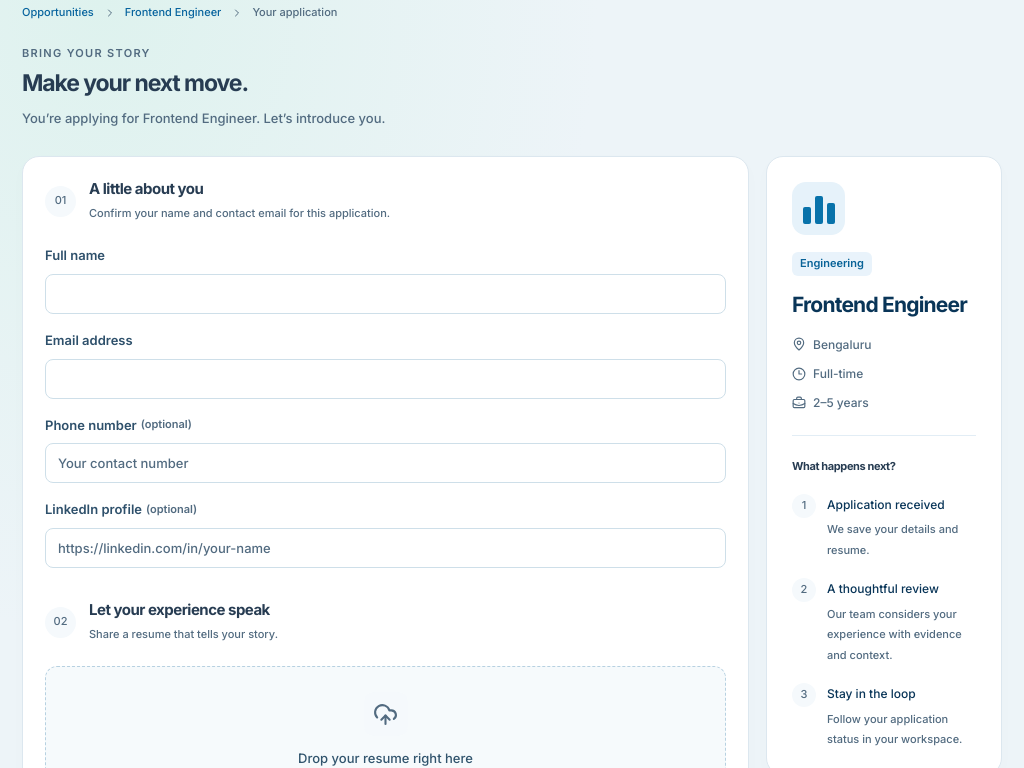
Test: candidate application submission › does not refill a contact field that was typed into and then cleared while awaiting the session
expect the heading "Make your next move." is shown: met, box [22, 69, 248, 97]
Type "Jamie Applicant" into the field labelled "Full name" at [386, 294], box [45, 274, 726, 314]
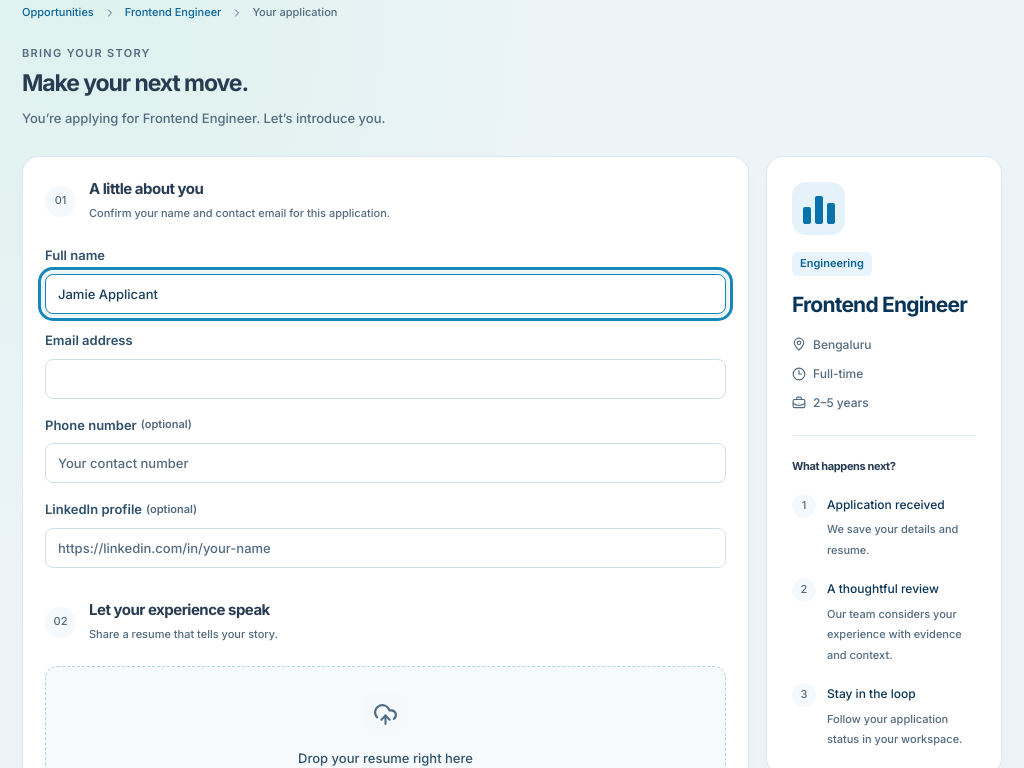
Clear the field labelled "Full name" at [386, 294], box [45, 274, 726, 314]
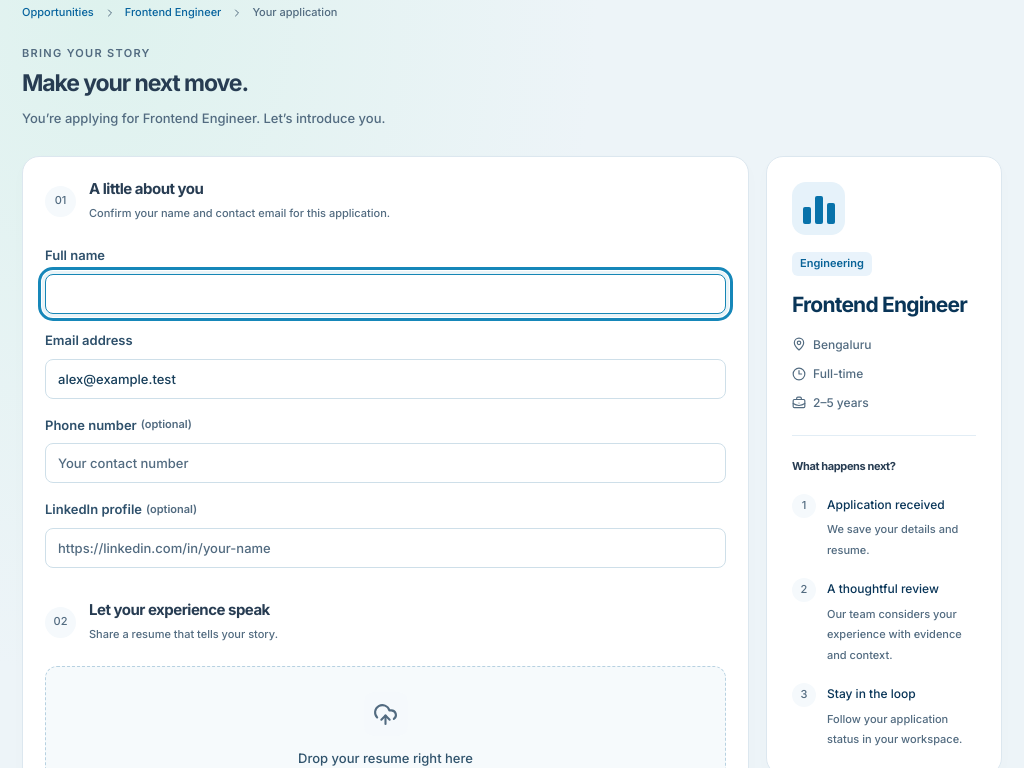
expect the field labelled "Email address" holds "alex@example.test": met, box [45, 359, 726, 399]
